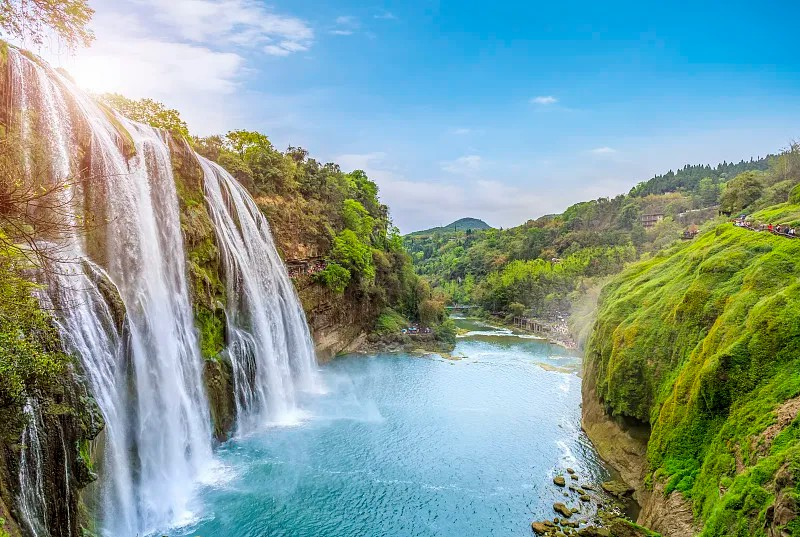Huangguoshu: (12, 45, 326, 537)
